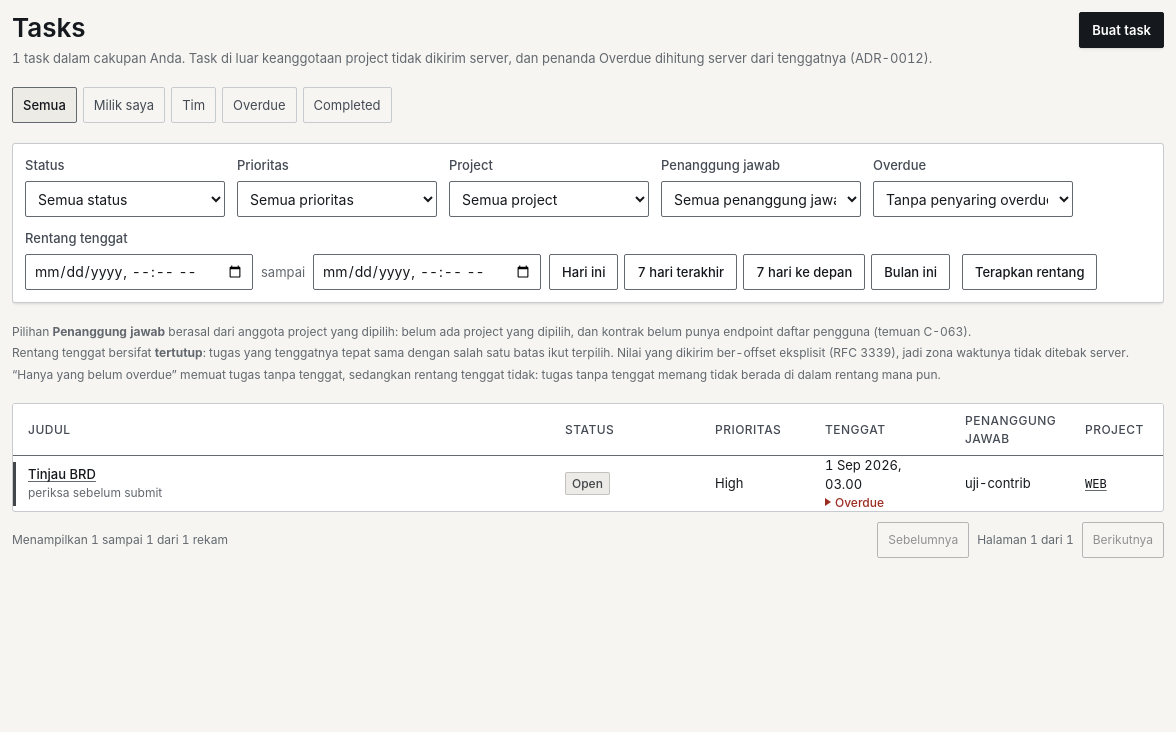
Scenario: halaman Tasks — daftar › menahan rentang terbalik di klien dan menyebut batas yang salah
The image size is (1176, 732).
Check: the link "Tinjau BRD" is shown, box [28, 466, 96, 482]
In the field named "Tenggat dari": point(139, 272) [25, 254, 253, 290], type "2026-03-31T08:00"
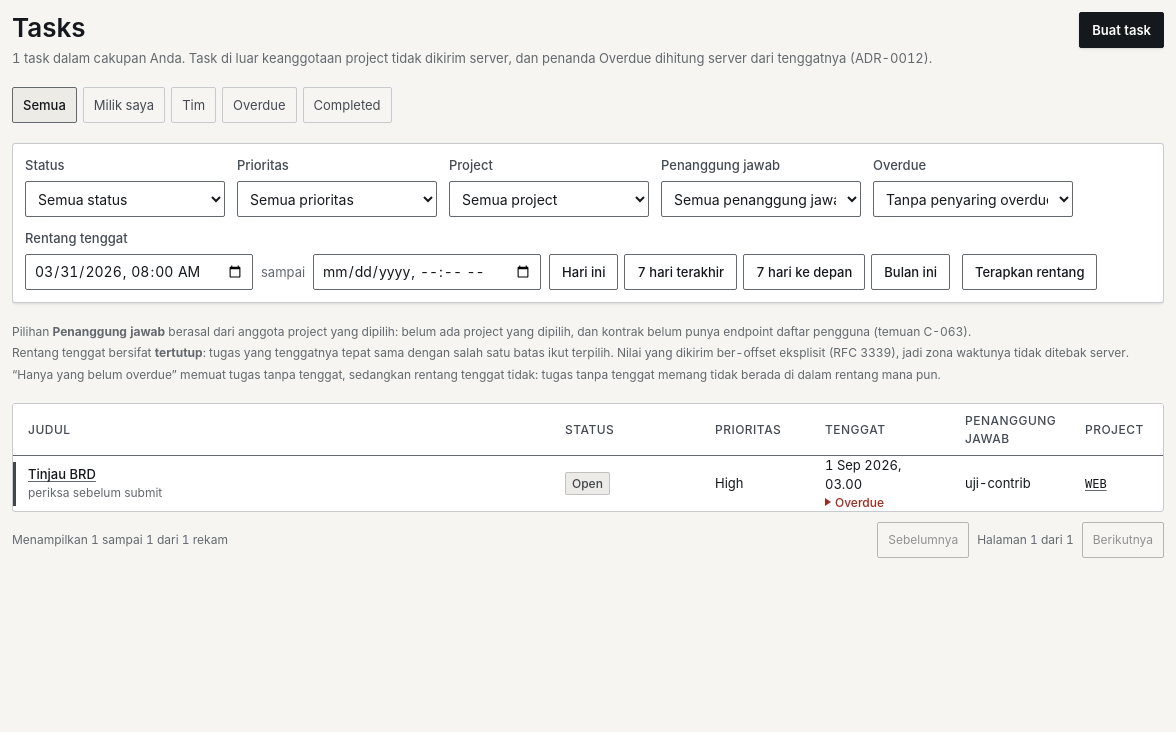
In the field named "Tenggat sampai": point(427, 272) [313, 254, 541, 290], type "2026-03-01T08:00"
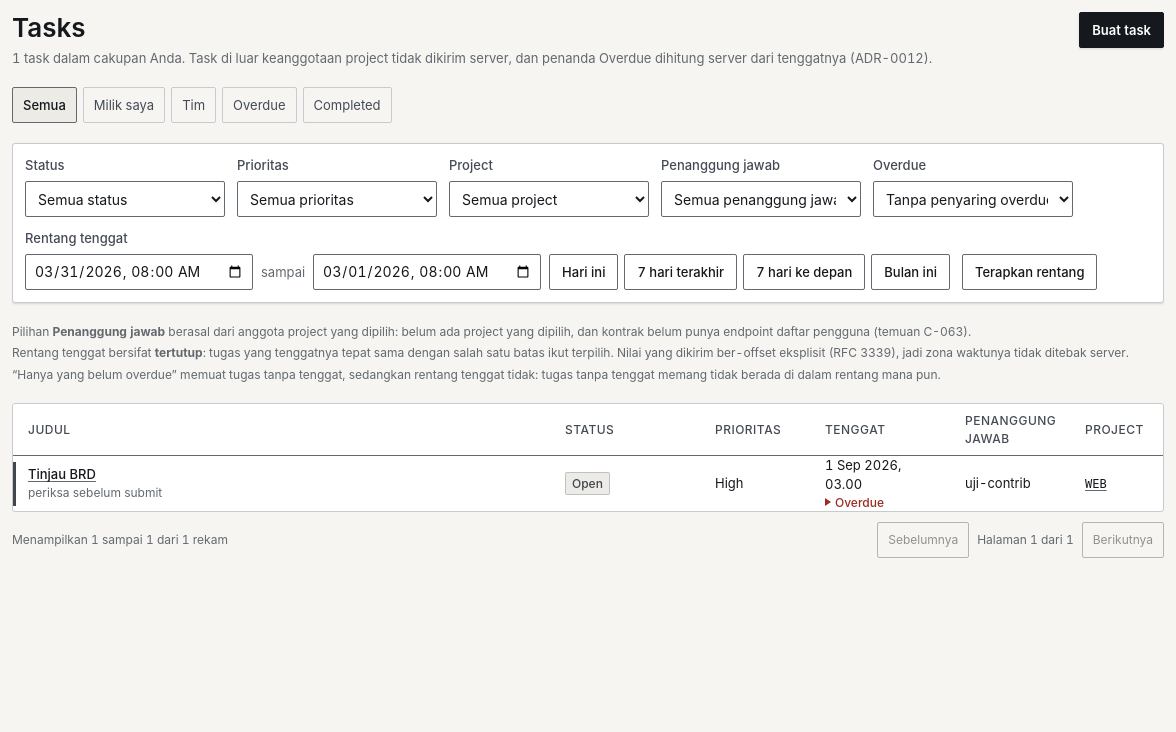
Click the button "Terapkan rentang": point(1030, 272) [962, 254, 1098, 290]
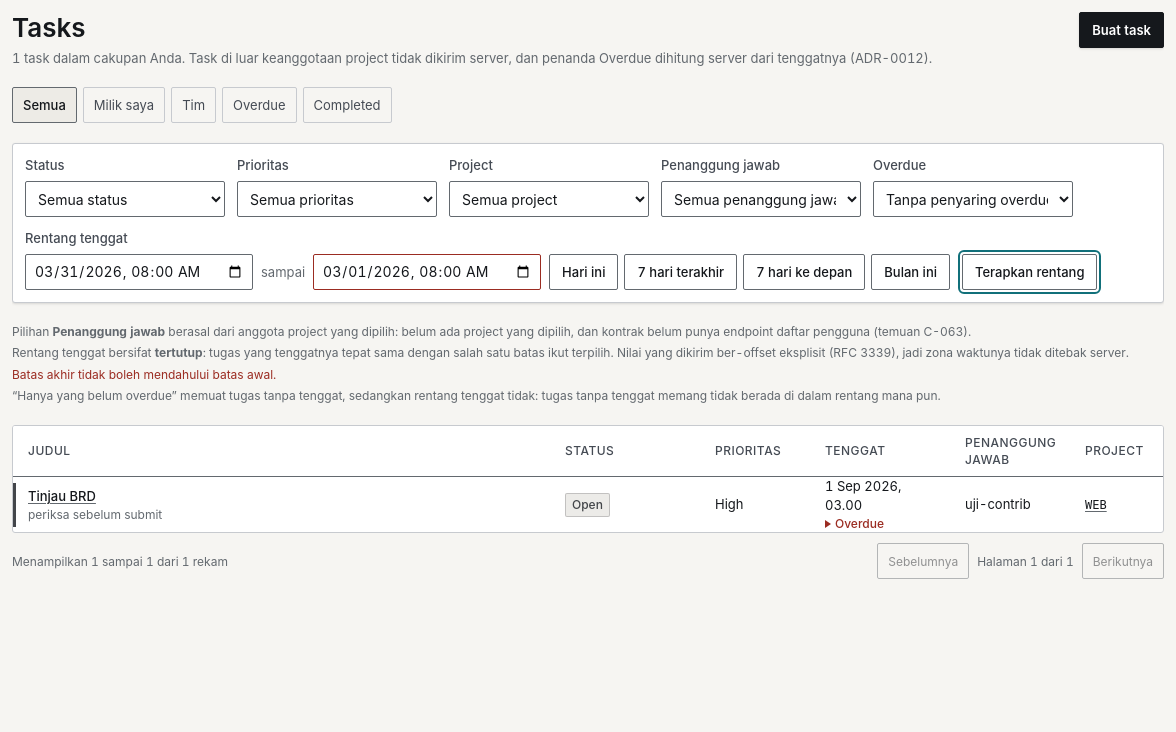
Check: the message reads "Batas akhir tidak boleh mendahului batas awal.", box [12, 367, 276, 382]
